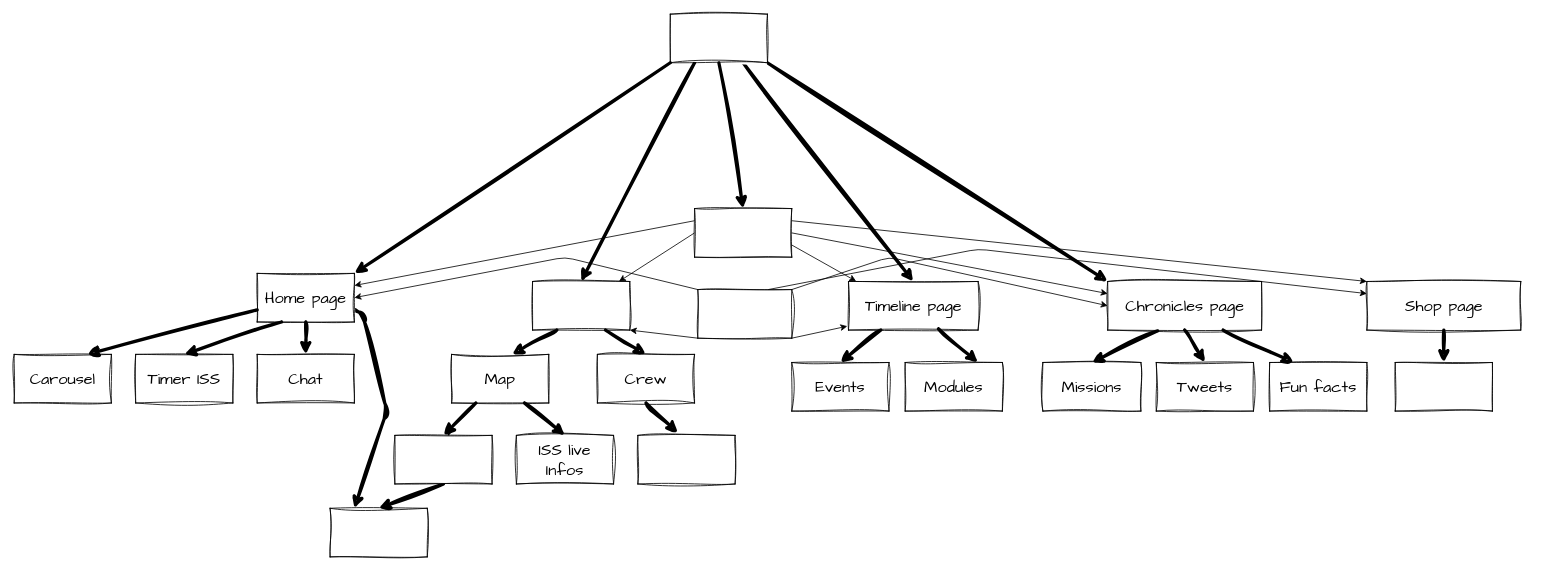
Some shapes in this 1559 by 571 pixel diagram are drawn without their labels. Each missing label, with the centre of its shape:
API map: the point at 443,459
App: the point at 718,38
Footer: the point at 744,313
Live ISS: the point at 378,532
Map page: the point at 581,305
Modal member: the point at 686,459
Navbar/ Header: the point at 743,232
Products: the point at 1443,386
